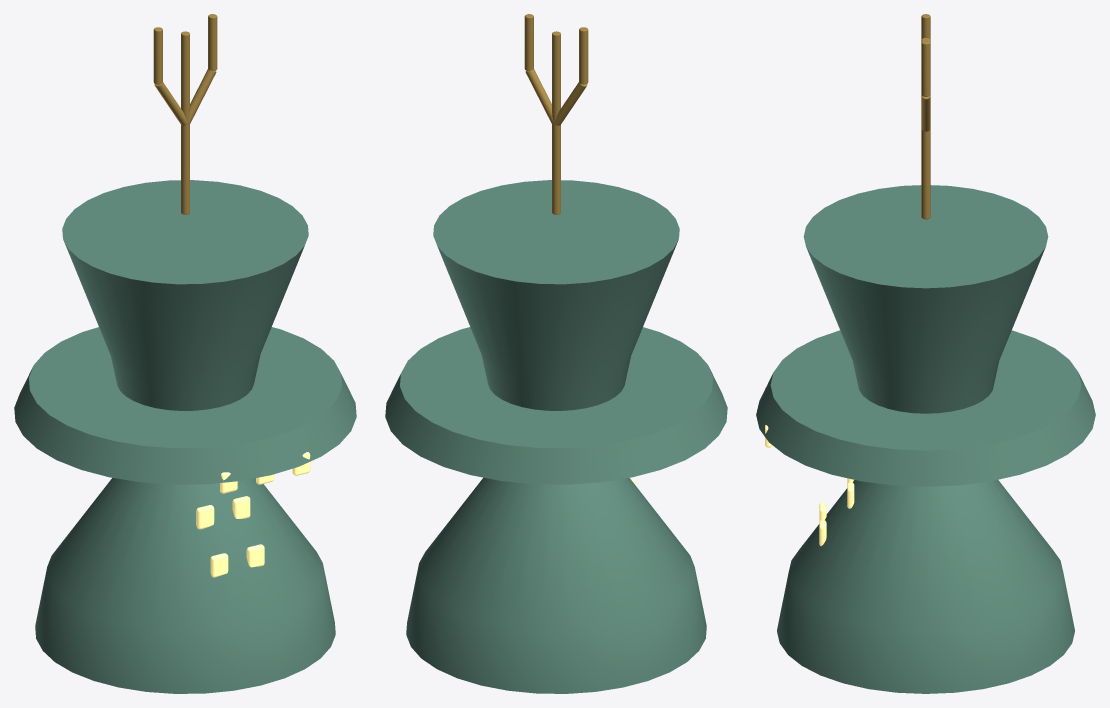
The picture shows the model from 3 angles, left to right: view 1: azimuth 30°, elevation 25°; view 2: azimuth 150°, elevation 25°; view 3: azimuth 270°, elevation 25°; orthographic projection.
Visible parts, largest first — view 1: Flared spindle column, Spindle saucer platform, Aerial stem, Aerial fork tine, Aerial fork tine.001; view 2: Flared spindle column, Spindle saucer platform, Aerial stem, Aerial fork tine, Aerial fork tine.001; view 3: Flared spindle column, Spindle saucer platform, Aerial stem, Aerial fork tine.001.
Part boxes in pixels (x1,y1,x2,y2): Flared spindle column: [35, 180, 335, 693]; Spindle saucer platform: [14, 327, 356, 484]; Aerial stem: [181, 31, 189, 214]; Aerial fork tine: [153, 27, 162, 84]; Aerial fork tine.001: [208, 14, 217, 70]; Flared spindle column: [406, 180, 706, 693]; Spindle saucer platform: [385, 327, 727, 484]; Aerial stem: [552, 31, 560, 214]; Aerial fork tine: [579, 27, 588, 84]; Aerial fork tine.001: [524, 14, 533, 70]; Flared spindle column: [777, 185, 1074, 693]; Spindle saucer platform: [756, 330, 1095, 486]; Aerial stem: [921, 38, 930, 219]; Aerial fork tine.001: [921, 40, 930, 96].
Bounding box in the file's own units: 1.64 × 3.21 × 1.64.
